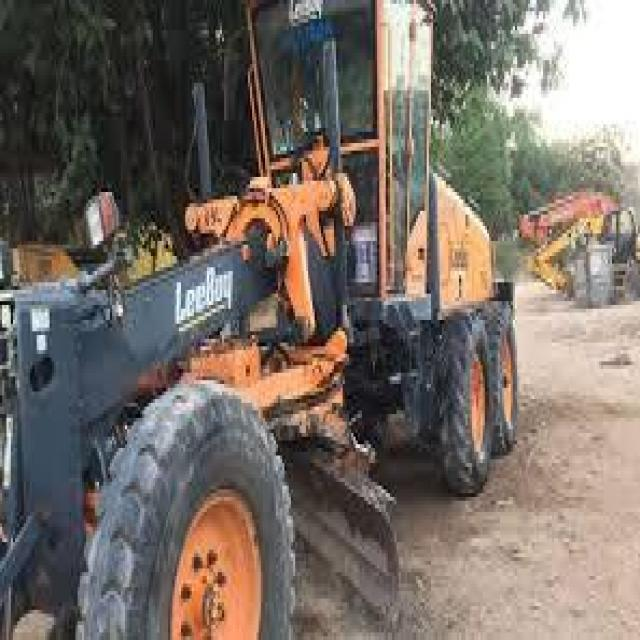Grader: (4, 0, 537, 636)
